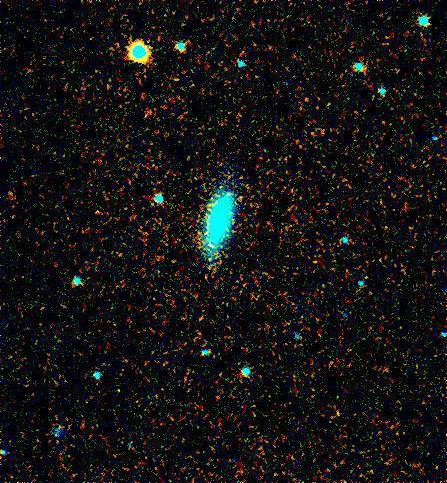star: (289, 83, 319, 113)
